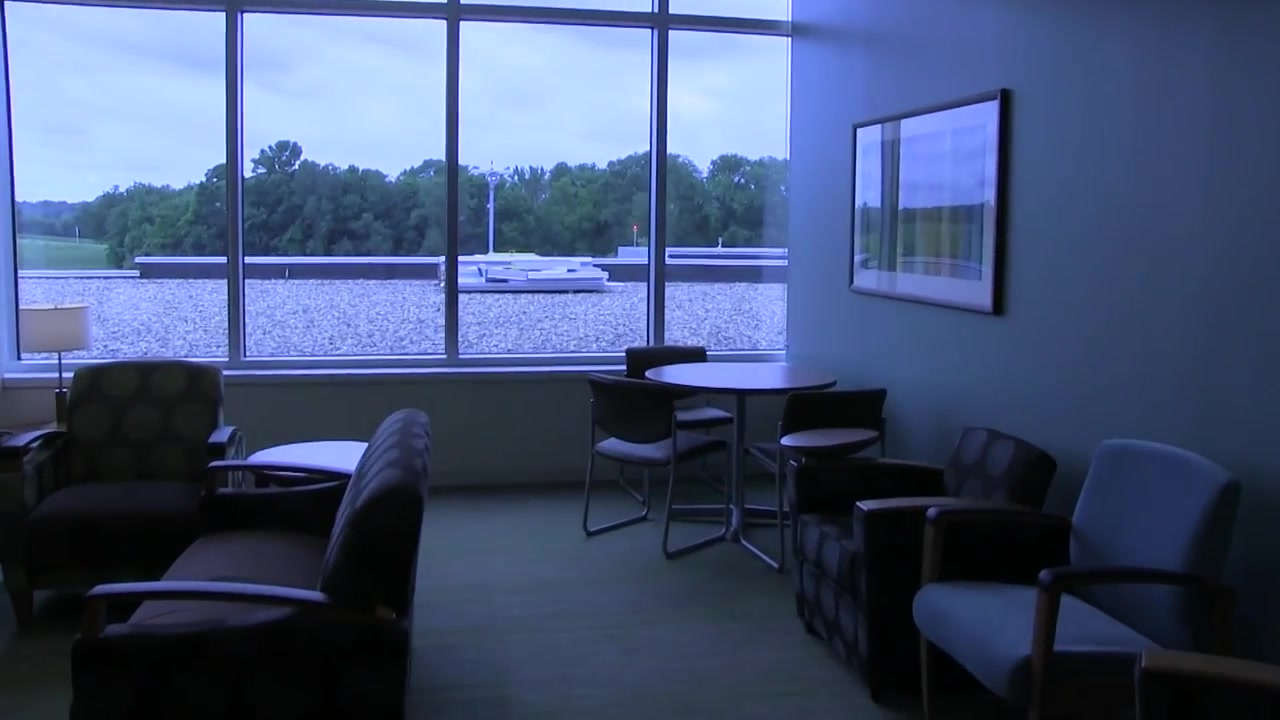chair: (582, 372, 735, 558), (742, 388, 889, 571), (617, 346, 738, 506)
sofa: (69, 409, 433, 720), (913, 436, 1237, 720), (788, 426, 1060, 701), (1, 356, 238, 624)
table: (646, 362, 840, 538), (245, 439, 372, 491), (779, 427, 877, 459)
